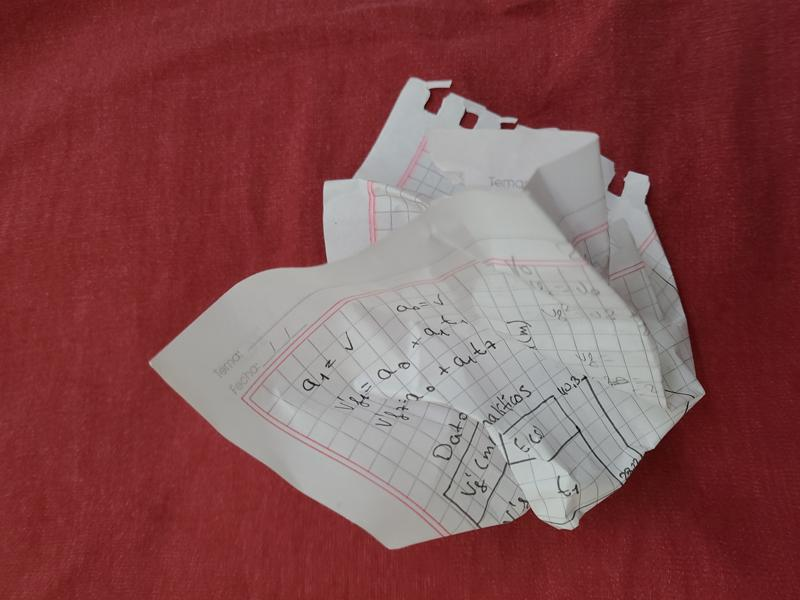papel: (148, 79, 707, 552)
